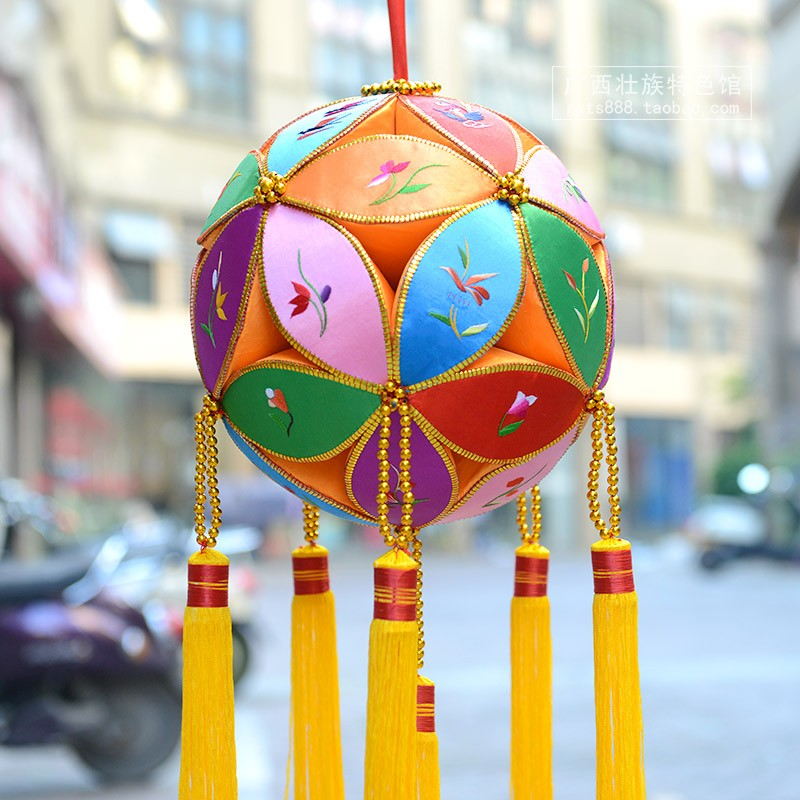xiuqiu: (192, 93, 610, 508)
